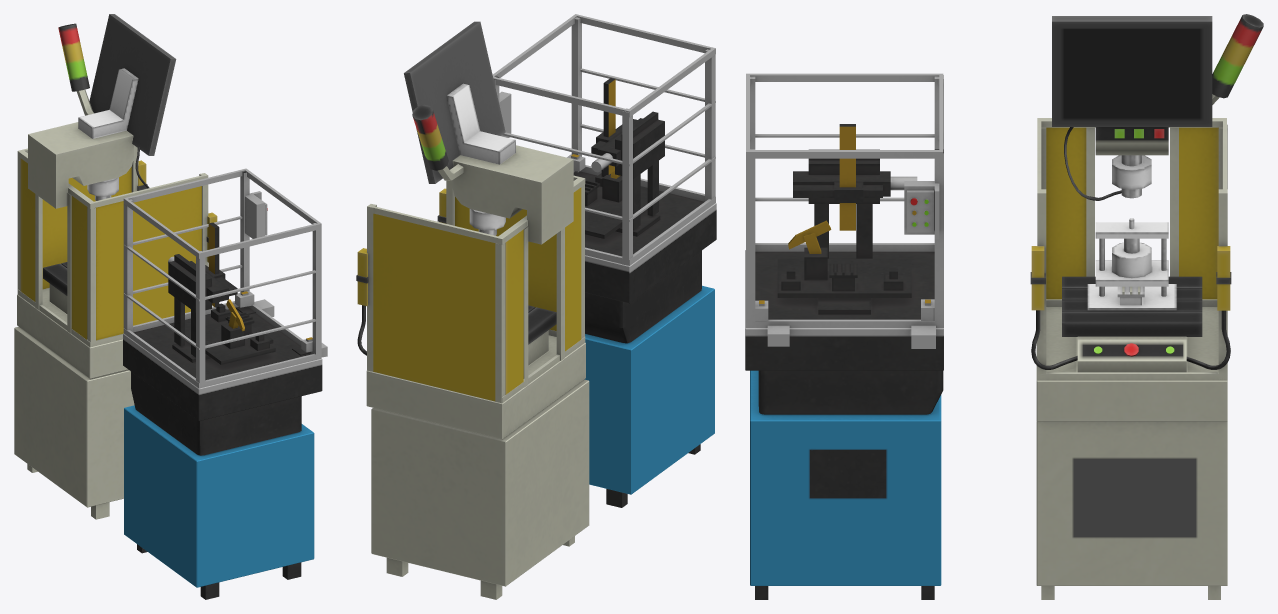
Rendered from ZhuangPeiSheBei.fbx.
3 views of the same model, side by side, from view 1: azimuth 30°, elevation 25°; view 2: azimuth 150°, elevation 25°; view 3: azimuth 270°, elevation 25° (orthographic). The views are drawn at different scales.
Parts seen in each view (by area): view 1: luosiningjinji1; view 2: luosiningjinji1; view 3: luosiningjinji1.
Part boxes in pixels (x1,y1,x2,y2): luosiningjinji1: [14, 14, 327, 599]; luosiningjinji1: [356, 14, 716, 599]; luosiningjinji1: [745, 14, 1263, 599].
Bounding box in the file's own units: 72.75 × 206 × 169.
